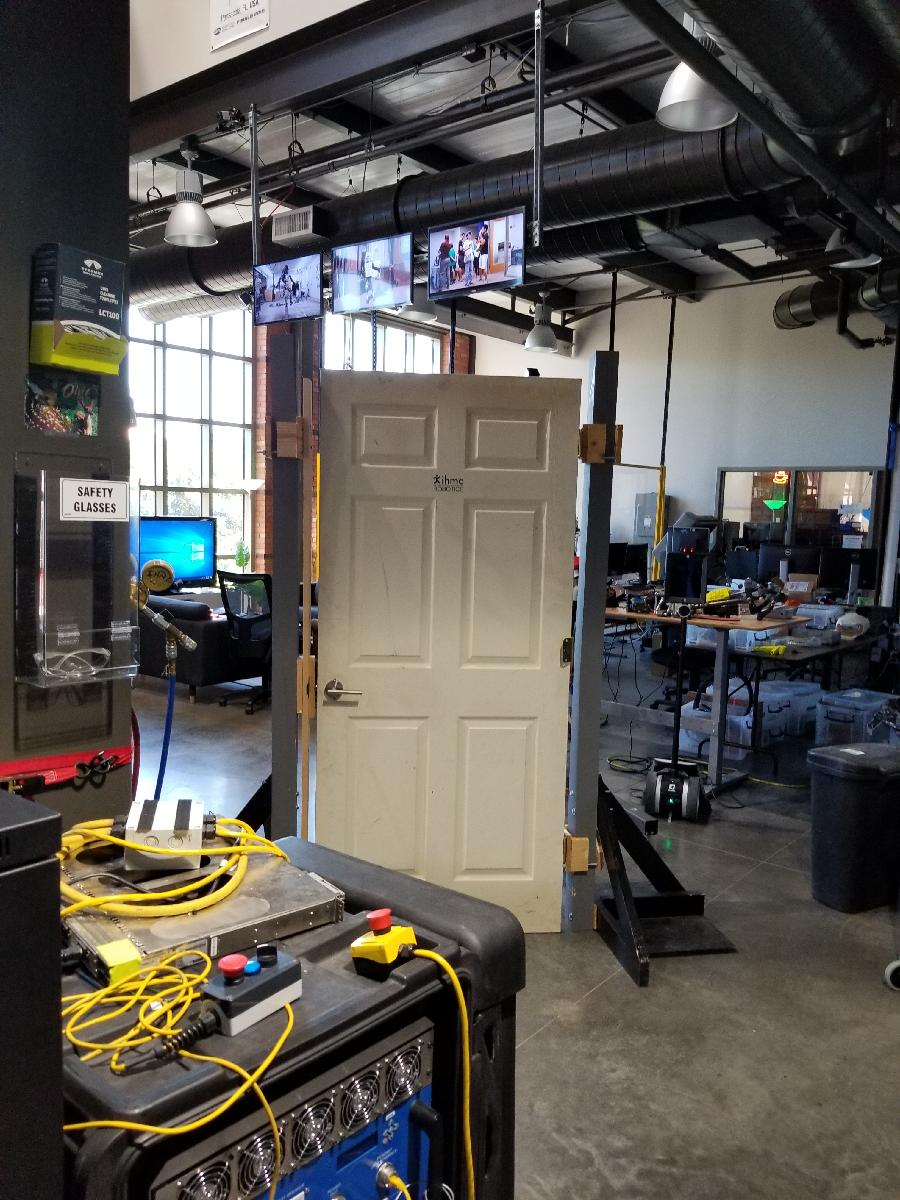door: (314, 363, 584, 946)
doorHandle: (321, 679, 364, 707)
